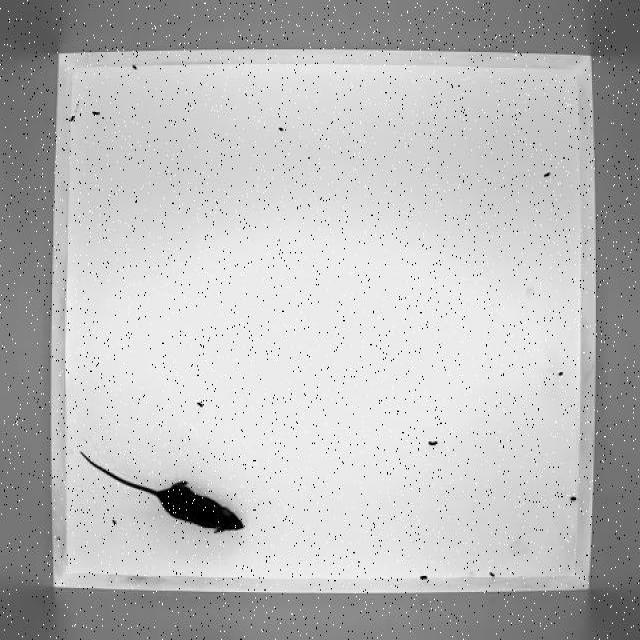rat: (74, 446, 256, 539)
